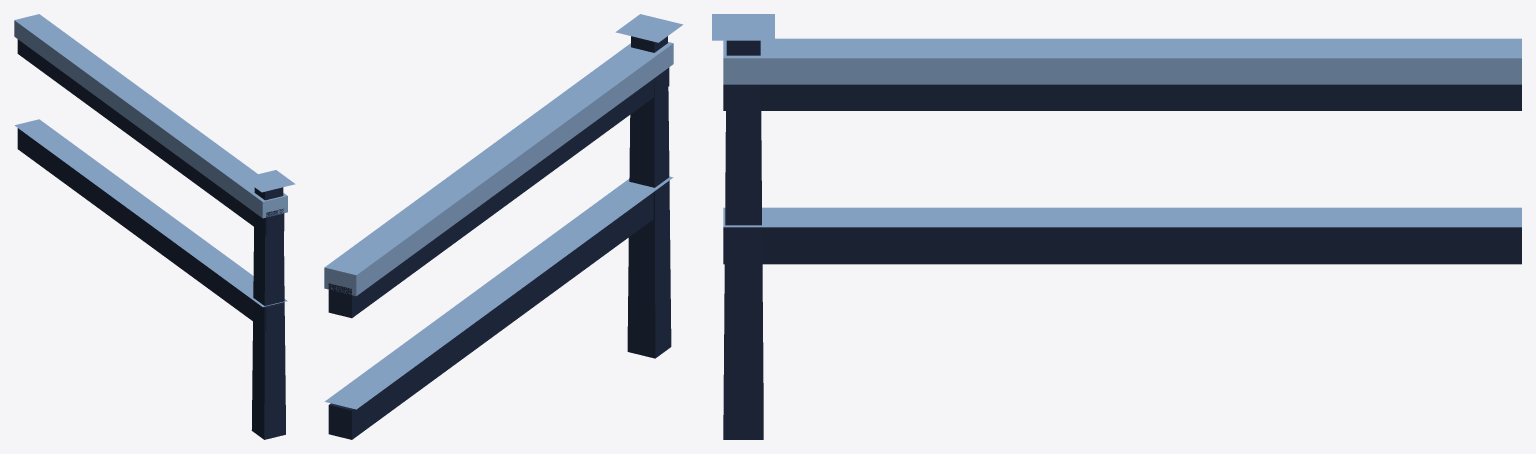
Rendered from fence_segment.glb.
3 renders of one model, left to right at view 1: azimuth 30°, elevation 25°; view 2: azimuth 150°, elevation 25°; view 3: azimuth 270°, elevation 25°, orthographic. The views are drawn at different scales.
Parts seen in each view (by area): view 1: Fence_Segment; view 2: Fence_Segment; view 3: Fence_Segment.
Boxes of the visible parts, <box> form: Fence_Segment: <box>14,14,295,439</box>; Fence_Segment: <box>324,14,683,439</box>; Fence_Segment: <box>712,14,1521,439</box>.
Size of the model in its own units: 0.216 by 1.53 by 2.78.
